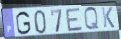0: (33, 9, 48, 35)
7: (49, 8, 63, 34)
E: (65, 7, 84, 34)
G: (15, 11, 32, 36)
K: (101, 6, 116, 29)
Q: (83, 6, 100, 32)
